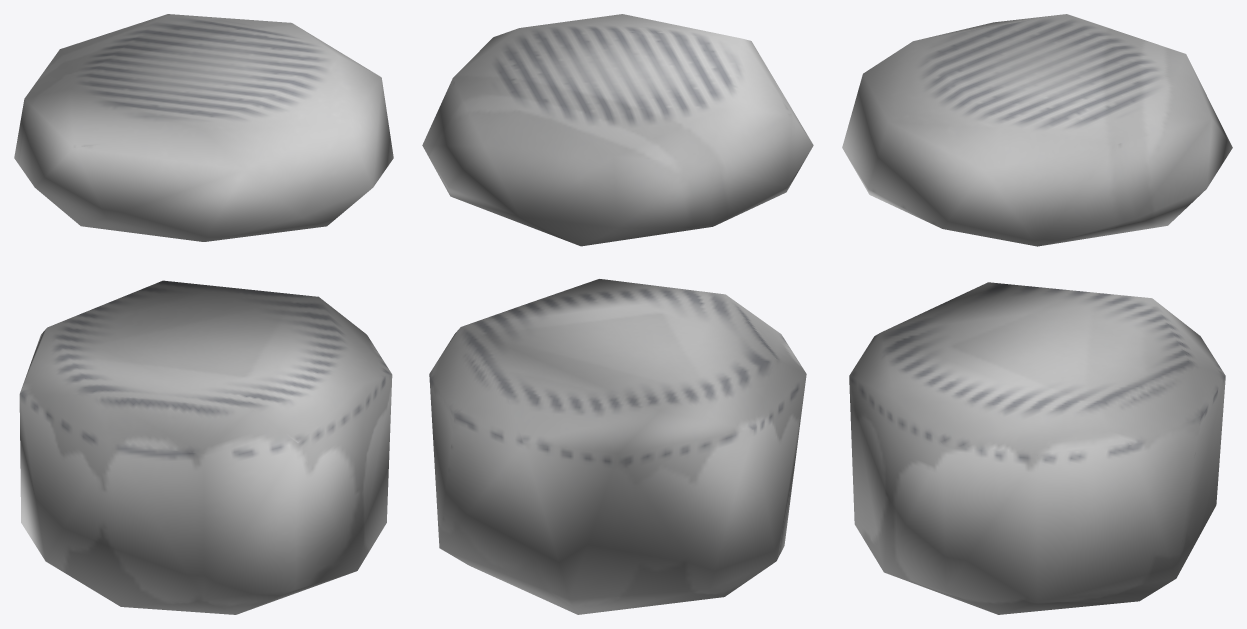
Rendered from RightHand_C2.fbx.
3 views of the same model, side by side, from view 1: azimuth 30°, elevation 25°; view 2: azimuth 150°, elevation 25°; view 3: azimuth 270°, elevation 25° (orthographic).
Parts seen in each view (by area): view 1: Civ_Cafe_RightHand_C2; view 2: Civ_Cafe_RightHand_C2; view 3: Civ_Cafe_RightHand_C2.
Boxes of the visible parts, x1=… form: Civ_Cafe_RightHand_C2: x1=14, y1=14, x2=393, y2=614; Civ_Cafe_RightHand_C2: x1=422, y1=14, x2=813, y2=614; Civ_Cafe_RightHand_C2: x1=842, y1=14, x2=1232, y2=614.
Size of the model in its own units: 0.3637 by 0.5014 by 0.3684.
